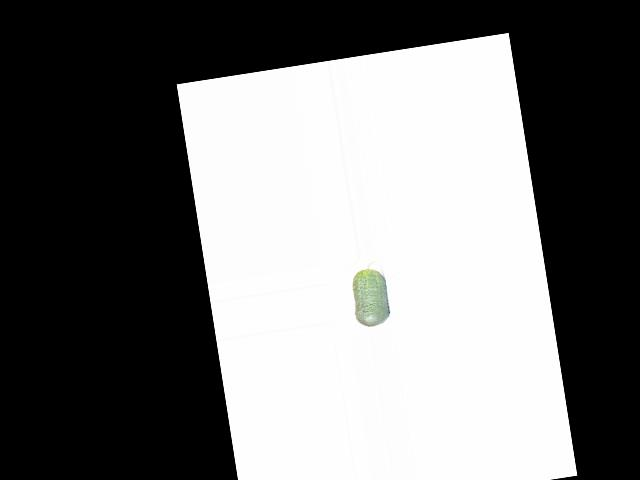cucumber: (348, 260, 391, 328)
